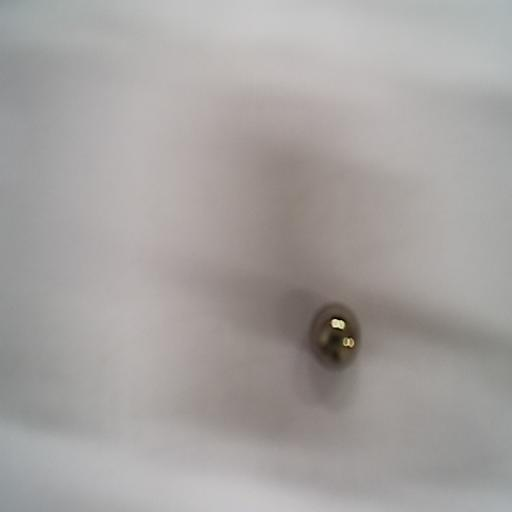steel-ball: (306, 295, 364, 375)
